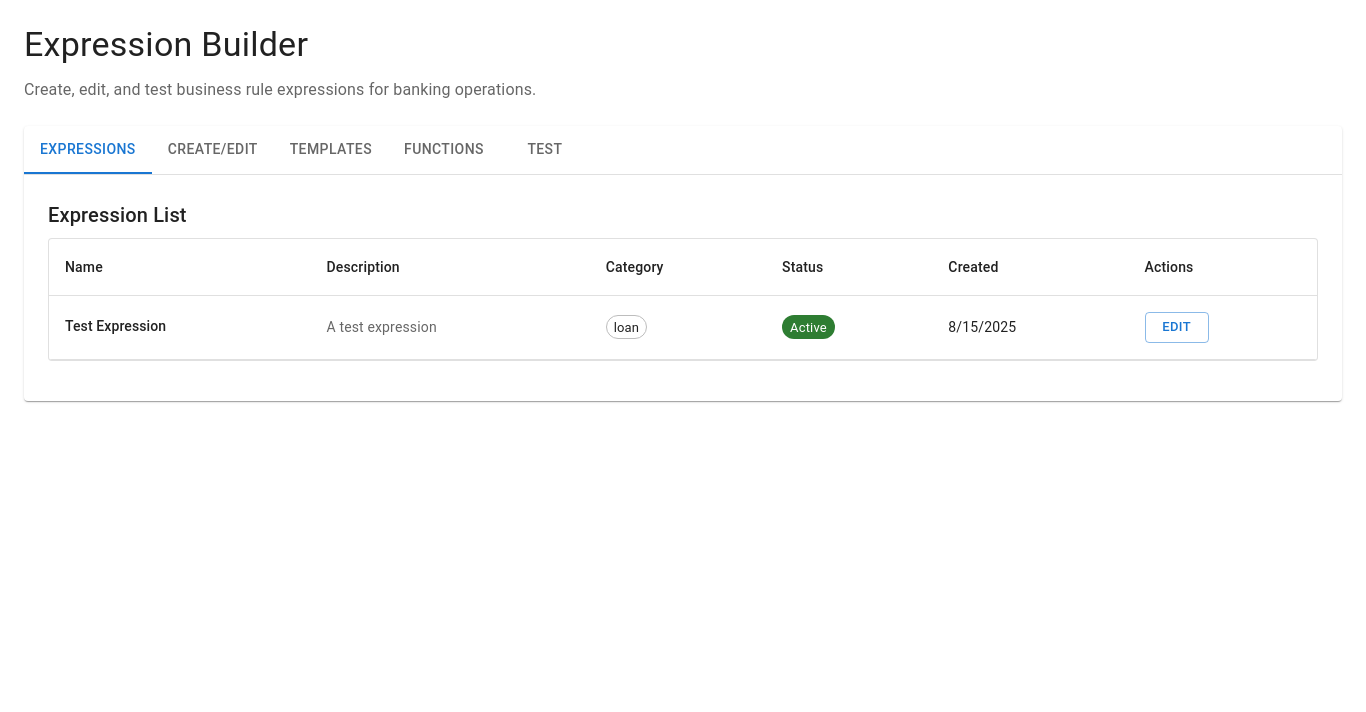
Test: Expression Builder Integration Tests › Expression Creation › should validate required fields before submission
Navigate to Create/Edit tab
Click the tab "Create/Edit": x=213, y=150 top-left (152, 126), bottom-right (274, 174)
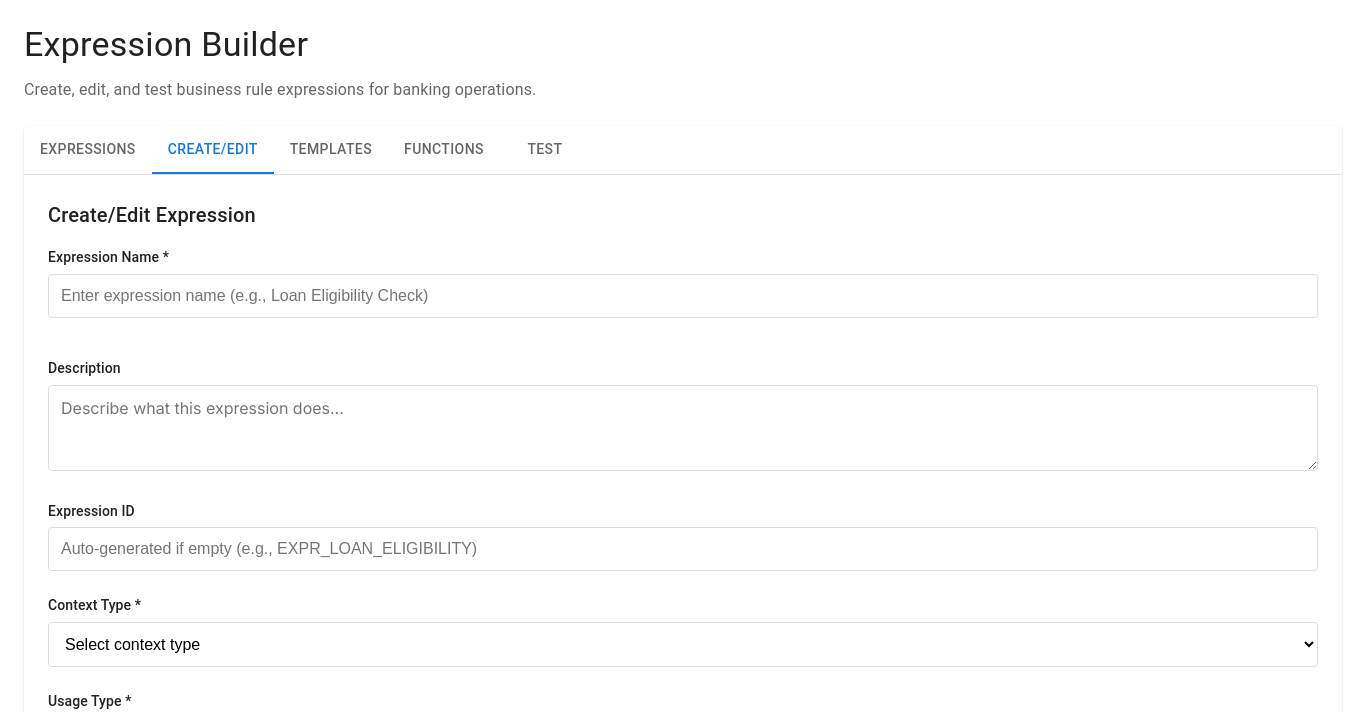
Fill only the name field
In the field with placeholder "Enter expression name (e.g., Loan Eligibility Check)": x=683, y=296 top-left (48, 274), bottom-right (1318, 318), type "Test Name"
(page scrolled)
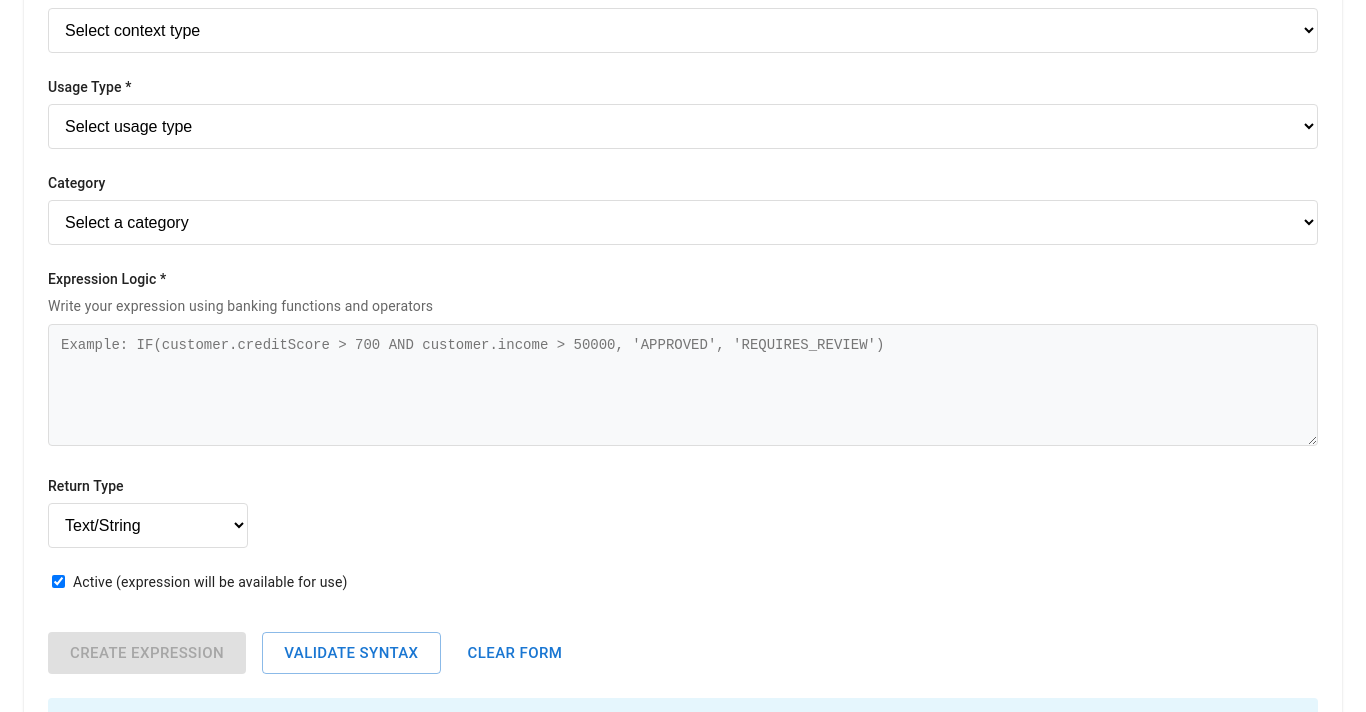
Expected: the button "Create Expression" is disabled, top-left (48, 632), bottom-right (246, 674)
Fill the expression field
In the text box with placeholder "Example: IF(customer.creditScore": x=683, y=385 top-left (48, 324), bottom-right (1318, 446), type "customer.age >= 18"
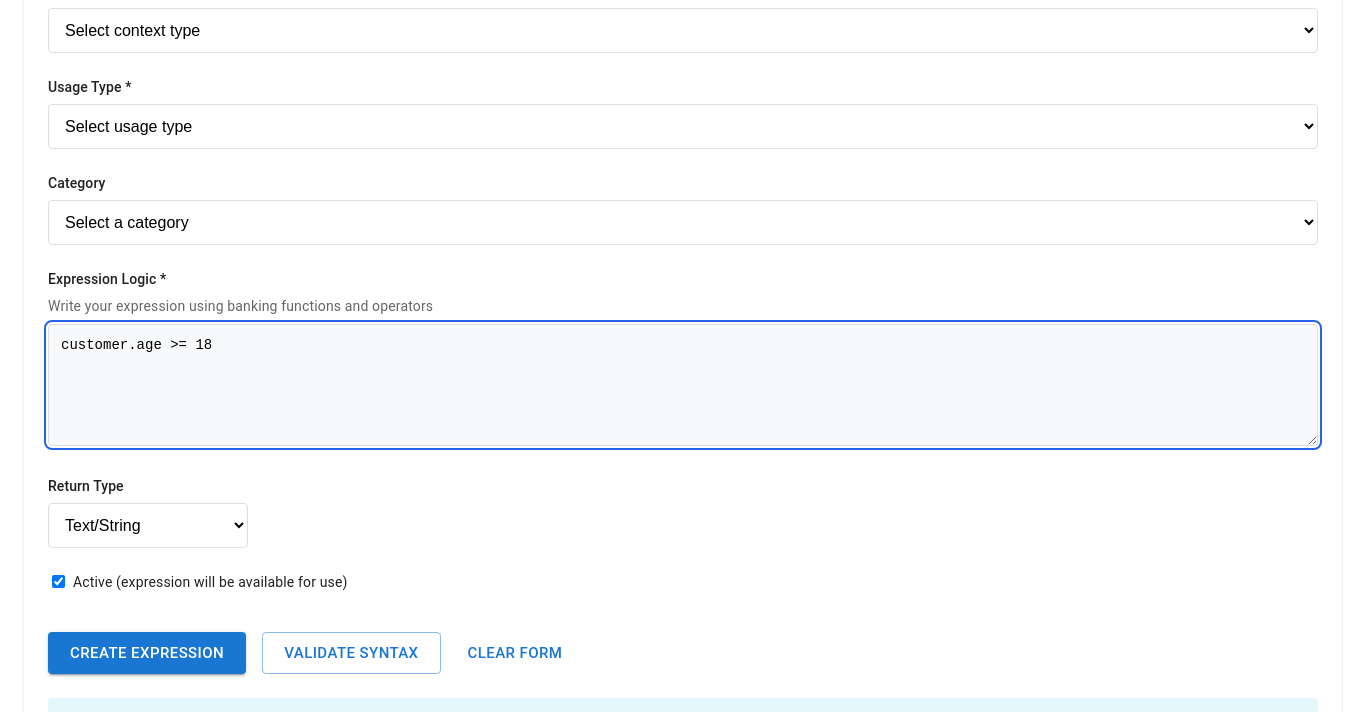
Expected: the button "Create Expression" is enabled, top-left (48, 632), bottom-right (246, 674)
